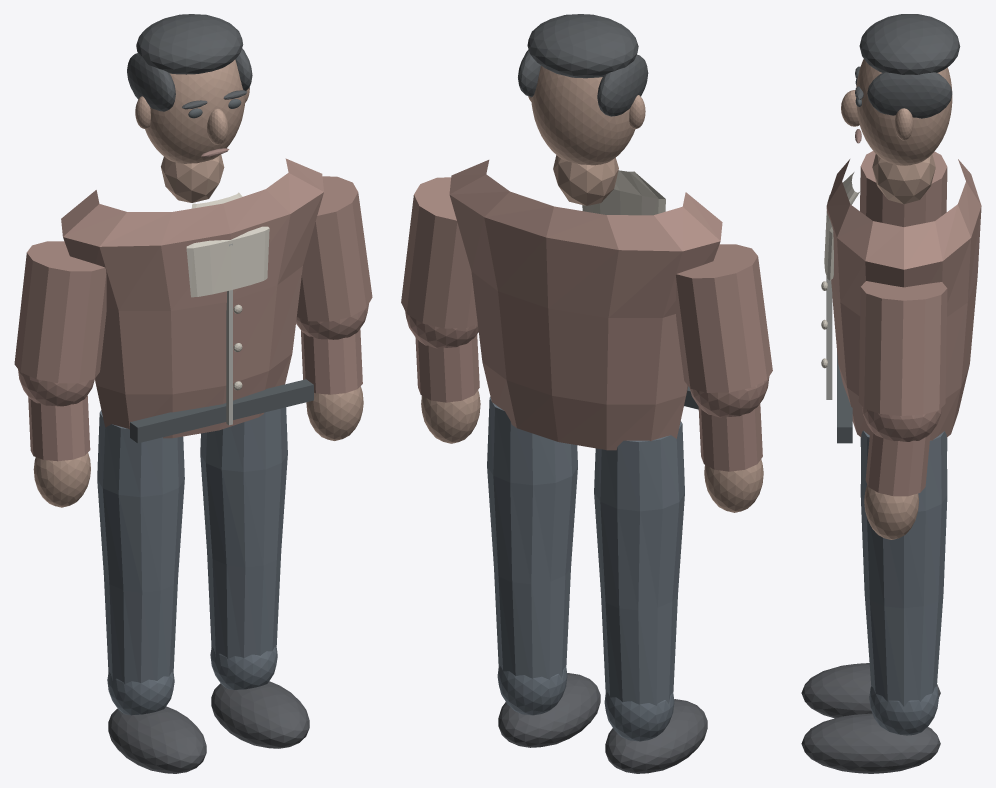
File: pedestrian-5.glb
3 views of the same model, side by side, from view 1: azimuth 30°, elevation 25°; view 2: azimuth 150°, elevation 25°; view 3: azimuth 270°, elevation 25° (orthographic). The views are drawn at different scales.
Parts seen in each view (by area): view 1: torso, leg_L, leg_R, arm_L, head, arm_R; view 2: torso, leg_L, leg_R, arm_L, head, arm_R; view 3: leg_R, torso, arm_R, head, arm_L, leg_L.
Part boxes in pixels (x1,y1,x2,y2): torso: (61,154,323,443); leg_L: (97,410,206,773); leg_R: (200,407,309,748); arm_L: (14,241,106,507); head: (127,14,252,163); arm_R: (296,176,372,440); torso: (449,155,722,450); leg_L: (594,421,707,773); leg_R: (487,397,600,747); arm_L: (675,244,772,512); head: (518,14,648,165); arm_R: (401,177,480,443); leg_R: (801,430,947,773); torso: (821,154,981,443); arm_R: (858,281,947,539); head: (841,14,960,165); arm_L: (860,151,947,226); leg_L: (801,437,947,718).
Size of the model in its own units: 1.04 by 2.05 by 0.465.
